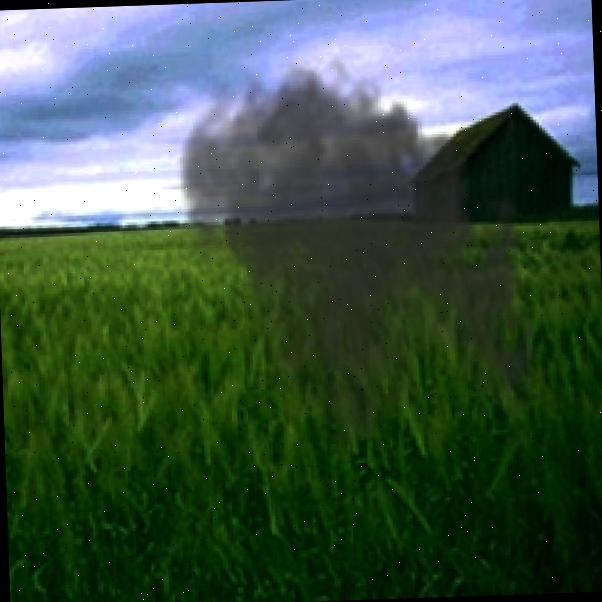smoke: (167, 40, 553, 446)
